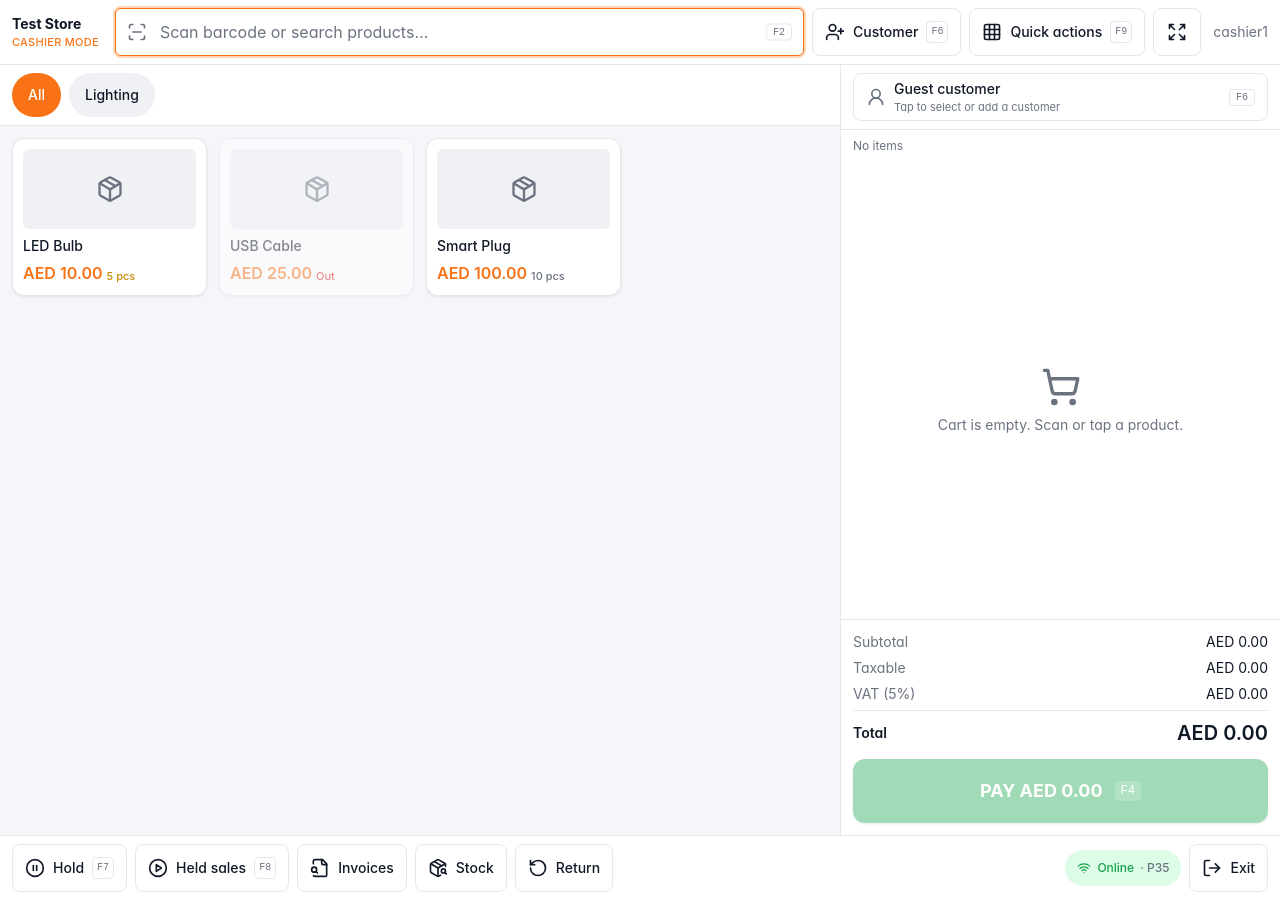
it: Cashier Mode — quick actions and permissions › a pricing-restriction violation is shown and blocks PAY (max discount %)
Expected: the button with aria-label "Add LED Bulb" is shown, [12,138,207,296]
Click the button with aria-label "Add Smart Plug": click(524, 217) [426,138,621,296]
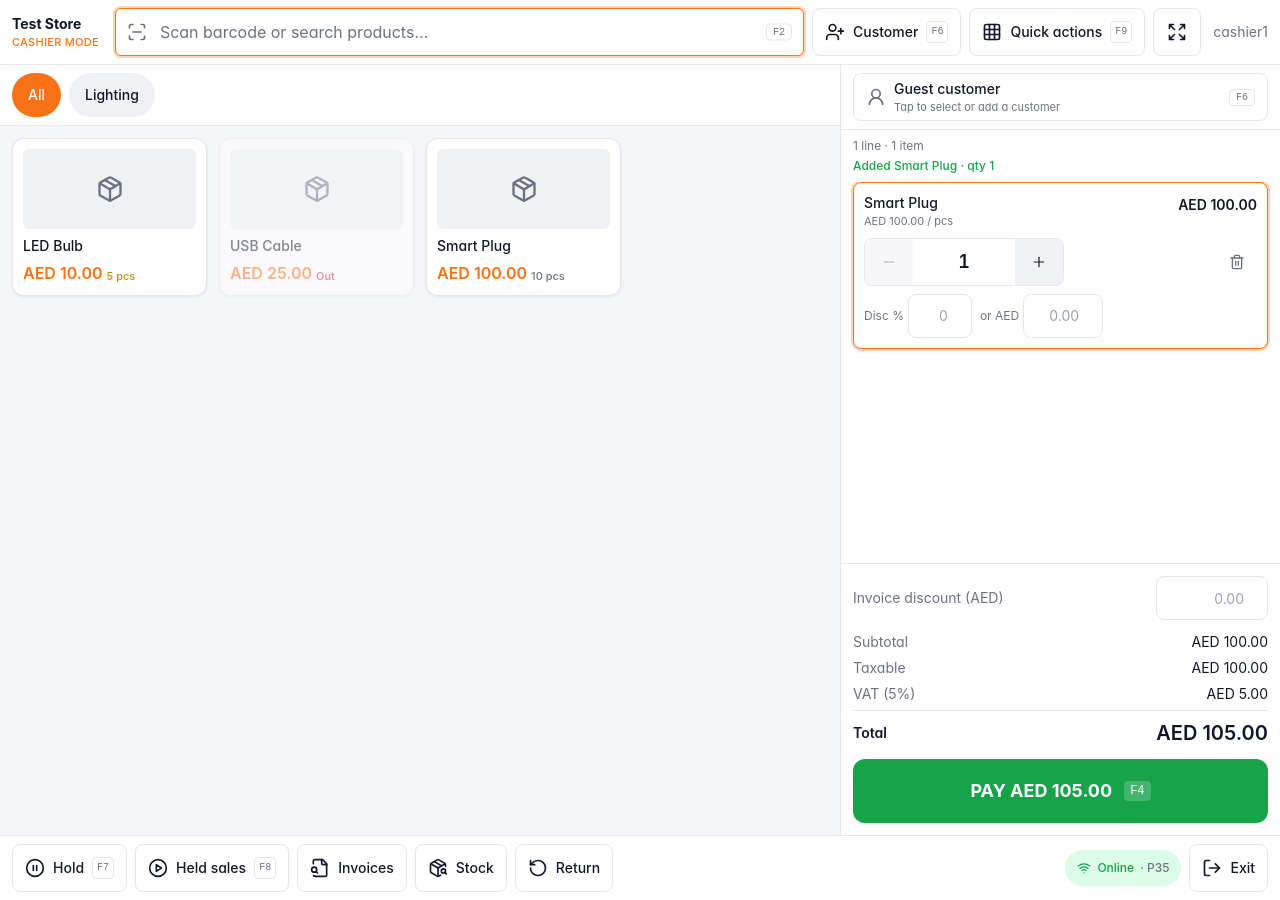
In the number field labelled "Disc %": (940, 316) [908,294,972,338], type "20"
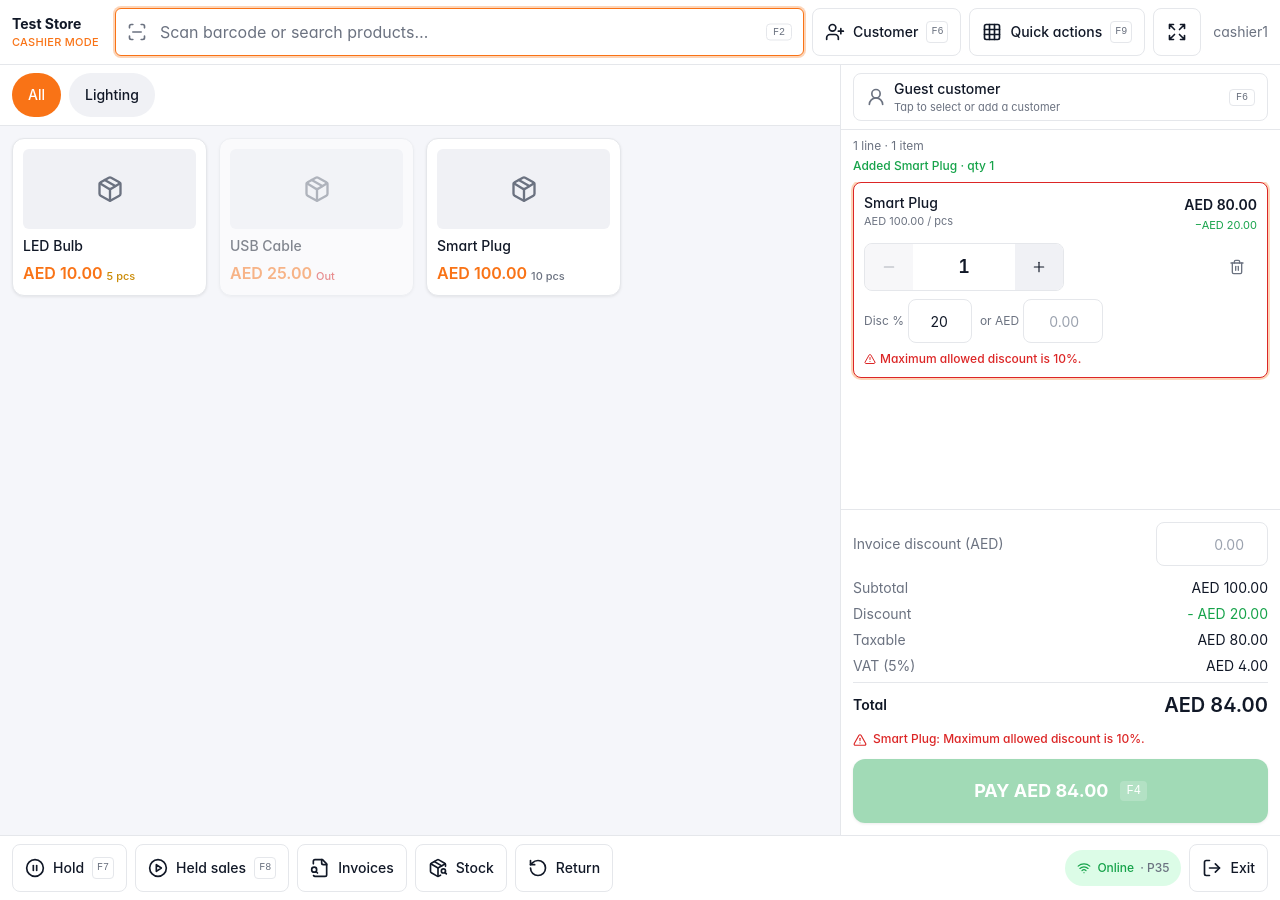
Now the list item "Maximum allowed discount is 10%." is shown, box [864,351,1082,366]
Now the button "PAY AED 84.00 F4" is disabled, box [853,759,1268,823]
Replace the text in the number field labelled "Disc %" with "5": (940, 321) [908,299,972,343]
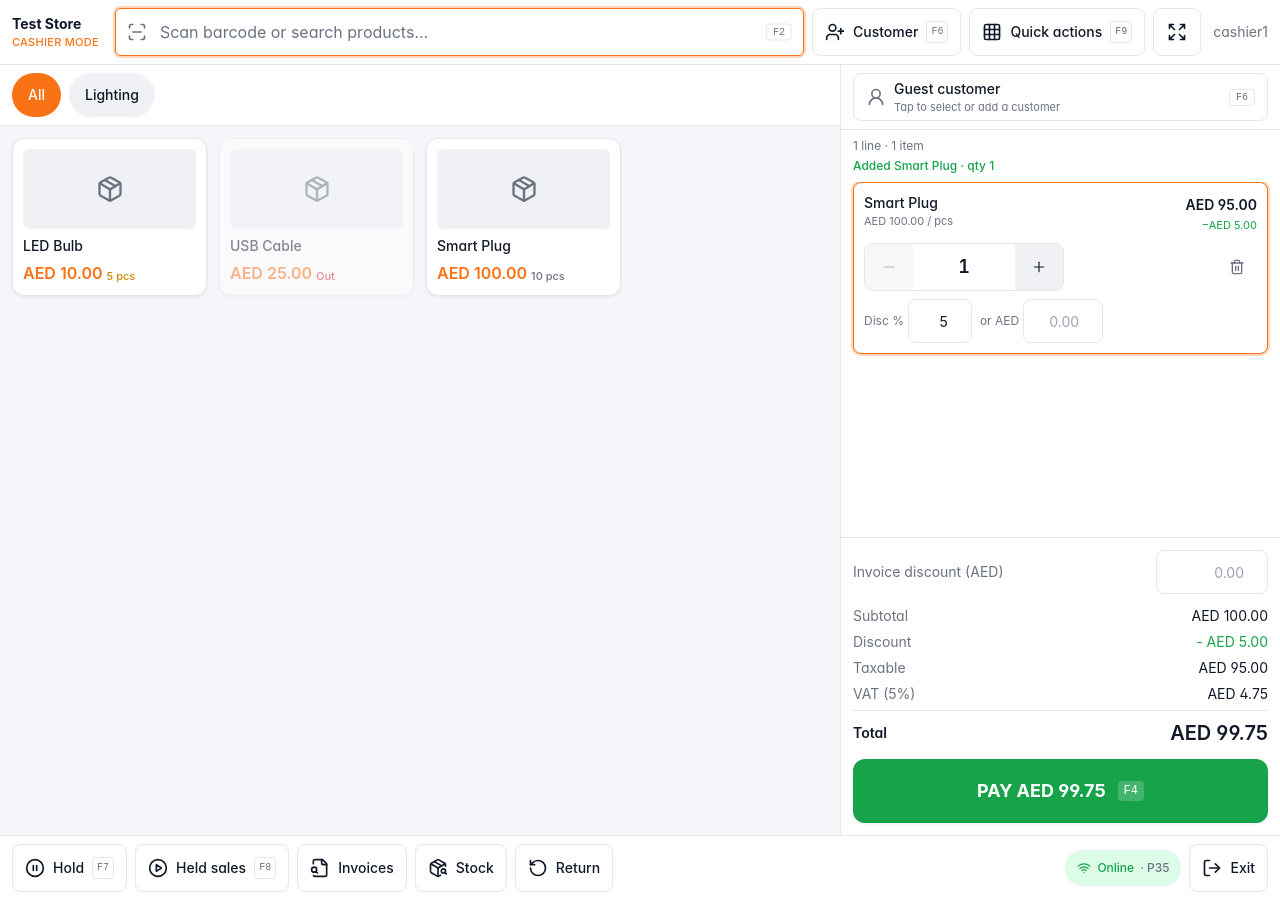
Now the button "PAY AED 99.75 F4" is enabled, box [853,759,1268,823]
